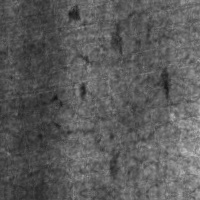crazing: (0, 95, 199, 184), (67, 3, 181, 69)
